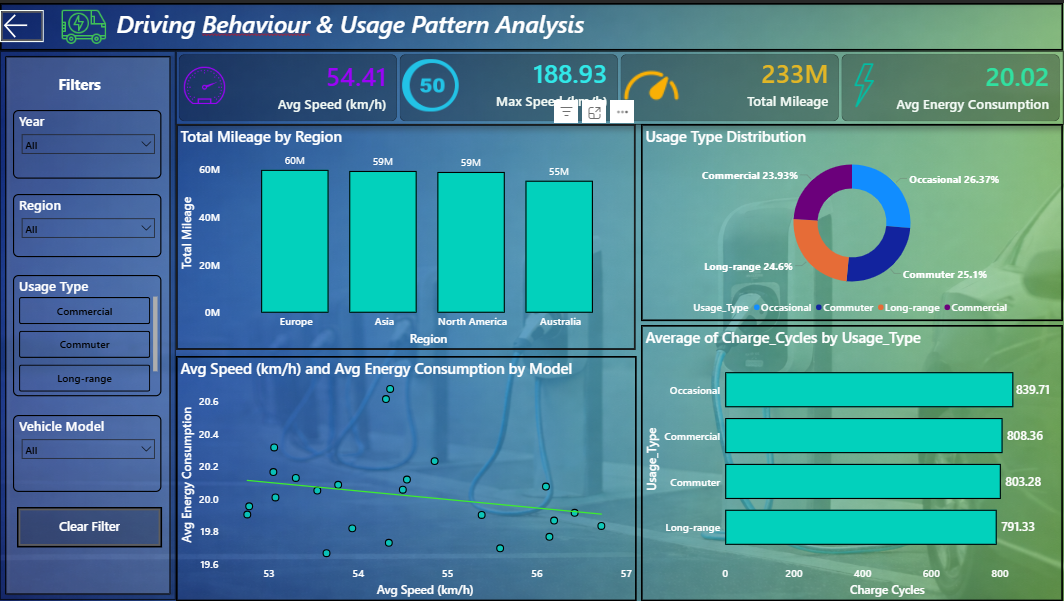

The page's visual inventory and layout, read from the dashboard file:
{"tool":"powerbi","page":{"name":" Driving Behavior & Usage Pattern Analysis","canvas":[1920,1080],"ordinal":4},"visuals":[{"type":"shape","box":[0,85.8,317.5,991.1],"z":0},{"type":"textbox","box":[0,0,1920,85.8],"z":1000},{"type":"cardVisual","fields":{"Data":["Measure_table.Avg Speed (km/h)","Measure_table.Max Speed (km/h)","Measure_table.Total Mileage","Measure_table.Avg Energy Consumption"]},"box":[317.5,85.8,1602.5,133],"z":2000},{"type":"advancedSlicerVisual","title":"Usage Type","fields":{"Values":["electric_vehicle_analytics.Usage_Type"]},"box":[23.6,491.3,268.2,218.8],"z":3000},{"type":"slicer","title":"Year","fields":{"Values":["electric_vehicle_analytics.Year"]},"box":[23.6,193.1,268.2,124.4],"z":4000},{"type":"slicer","title":"Vehicle Model","fields":{"Values":["electric_vehicle_analytics.Model"]},"box":[23.6,744.4,268.2,139.4],"z":5000},{"type":"slicer","title":"Region","fields":{"Values":["electric_vehicle_analytics.Region"]},"box":[23.6,345.4,268.2,113.7],"z":6000},{"type":"actionButton","box":[0,12.9,79.4,57.9],"z":7000},{"type":"textbox","box":[23.6,122.3,240.3,70.8],"z":8000},{"type":"image","box":[79.4,0,143.7,85.8],"z":9000},{"type":"pieChart","title":"Usage Type Distribution","fields":{"Category":["electric_vehicle_analytics.Usage_Type"],"Y":["Measure_table.Total_Vechicle"]},"box":[1158.4,218.8,762,356],"z":10000},{"type":"clusteredColumnChart","fields":{"Category":["electric_vehicle_analytics.Region"],"Y":["Measure_table.Total Mileage"]},"box":[317.5,218.8,830,408],"z":11000},{"type":"barChart","fields":{"Category":["electric_vehicle_analytics.Usage_Type"],"Y":["Avg(Battery_per_info.Charge_Cycles)"]},"box":[1158.4,581.4,762,499],"z":12000},{"type":"scatterChart","fields":{"X":["Measure_table.Avg Speed (km/h)"],"Category":["electric_vehicle_analytics.Model"],"Y":["Measure_table.Avg Energy Consumption"]},"box":[317.5,637.1,832,443],"z":13000},{"type":"actionButton","box":[30,909.6,261.7,72.9],"z":14000}]}

Visuals, with their boxes in screenshot pixels (x1, y1, x2, y2), scaled from the page's 1920x1080 canvas onto the 1064x601 screenshot:
shape: rect(0, 48, 176, 599)
textbox: rect(0, 0, 1063, 48)
cardVisual - Measure_table.Avg Speed (km/h) x Measure_table.Max Speed (km/h): rect(176, 48, 1063, 122)
"Usage Type" advancedSlicerVisual: rect(13, 273, 162, 395)
"Year" slicer: rect(13, 107, 162, 177)
"Vehicle Model" slicer: rect(13, 414, 162, 492)
"Region" slicer: rect(13, 192, 162, 255)
actionButton: rect(0, 7, 44, 39)
textbox: rect(13, 68, 146, 107)
image: rect(44, 0, 124, 48)
"Usage Type Distribution" pieChart: rect(642, 122, 1063, 320)
clusteredColumnChart - electric_vehicle_analytics.Region x Measure_table.Total Mileage: rect(176, 122, 636, 349)
barChart - electric_vehicle_analytics.Usage_Type x Avg(Battery_per_info.Charge_Cycles): rect(642, 324, 1063, 600)
scatterChart - Measure_table.Avg Speed (km/h) x electric_vehicle_analytics.Model: rect(176, 355, 637, 600)
actionButton: rect(17, 506, 162, 547)
